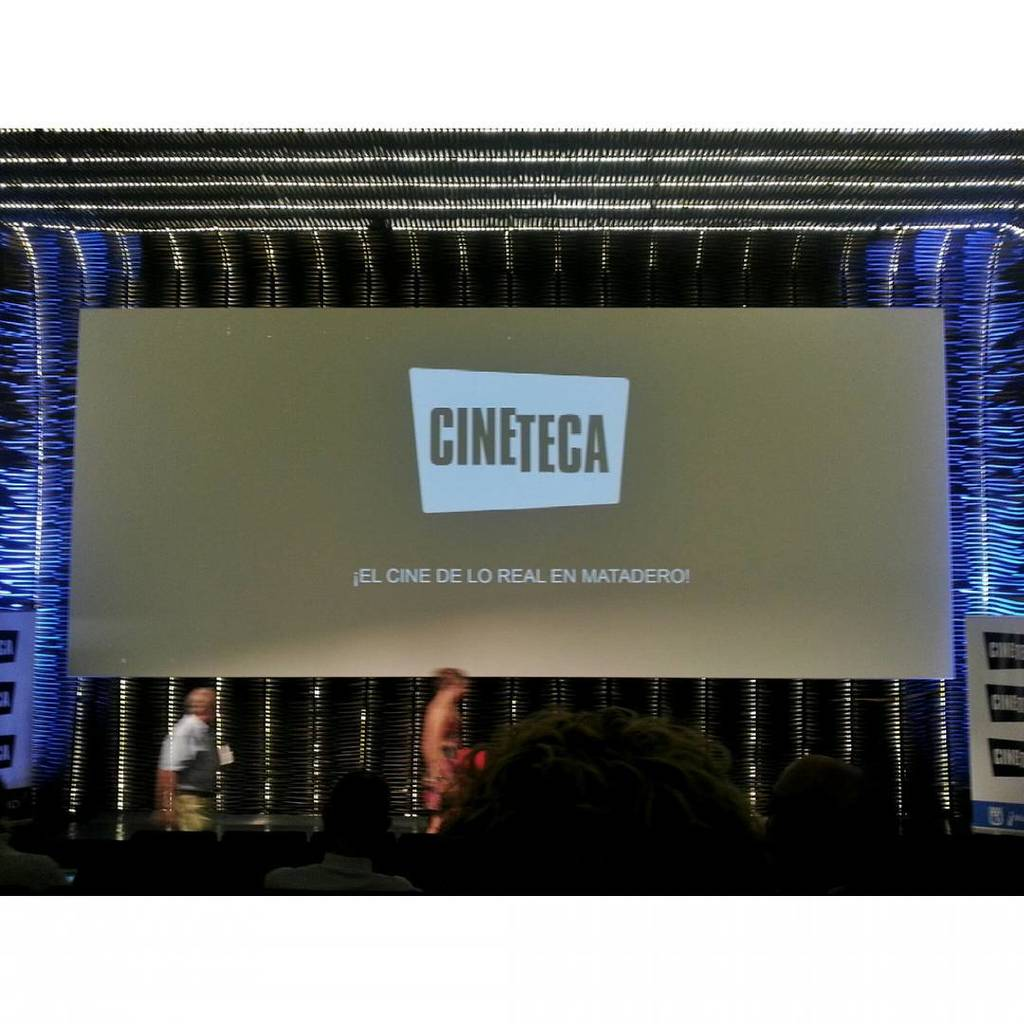person: (404, 691, 773, 897)
